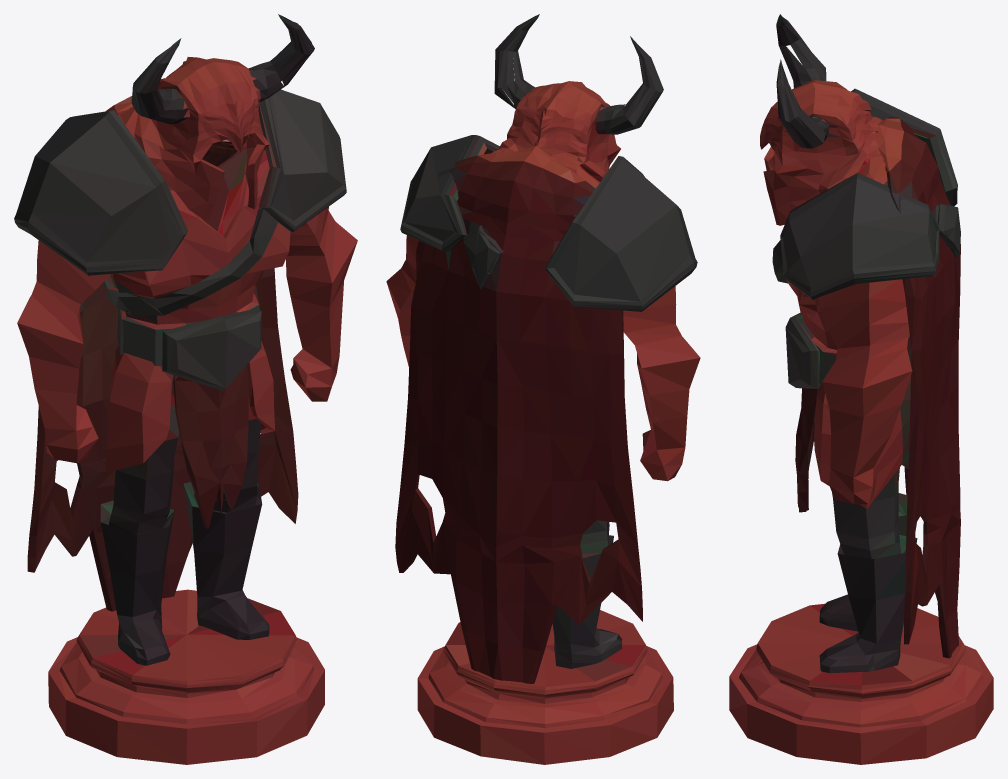
File: berserk.glb
3 renders of one model, left to right at view 1: azimuth 30°, elevation 25°; view 2: azimuth 150°, elevation 25°; view 3: azimuth 270°, elevation 25°, orthographic. The views are drawn at different scales.
Visible parts, largest first — view 1: mesh_node; view 2: mesh_node; view 3: mesh_node.
Boxes of the visible parts, x1,y1,x2,y2 form: mesh_node: (14,14,357,764); mesh_node: (386,14,700,764); mesh_node: (729,14,993,764).
Bounding box in the file's own units: 0.501 × 1 × 0.3555.
